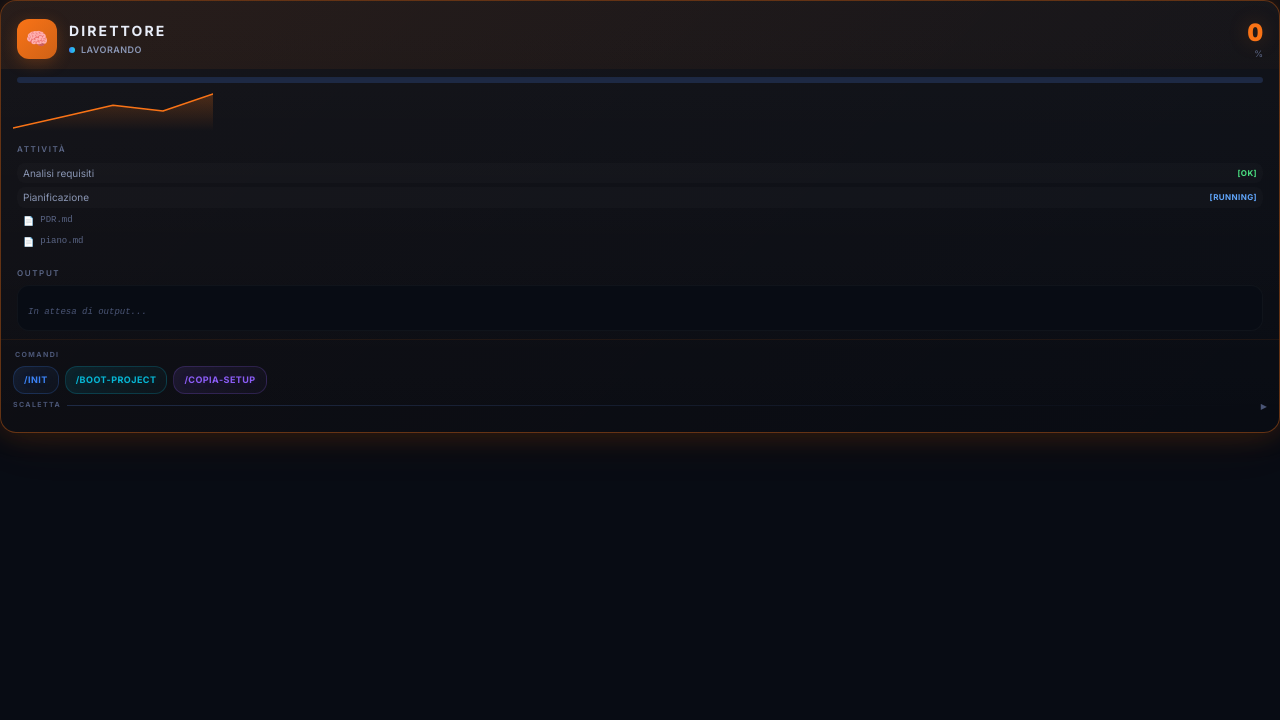
AgentCard › calcola phaseStatus con progress=0 per DirettoreFooter
This screenshot has width=1280, height=720.
Click the text "Scaletta". click: (37, 406)
box: [13,400,61,411]
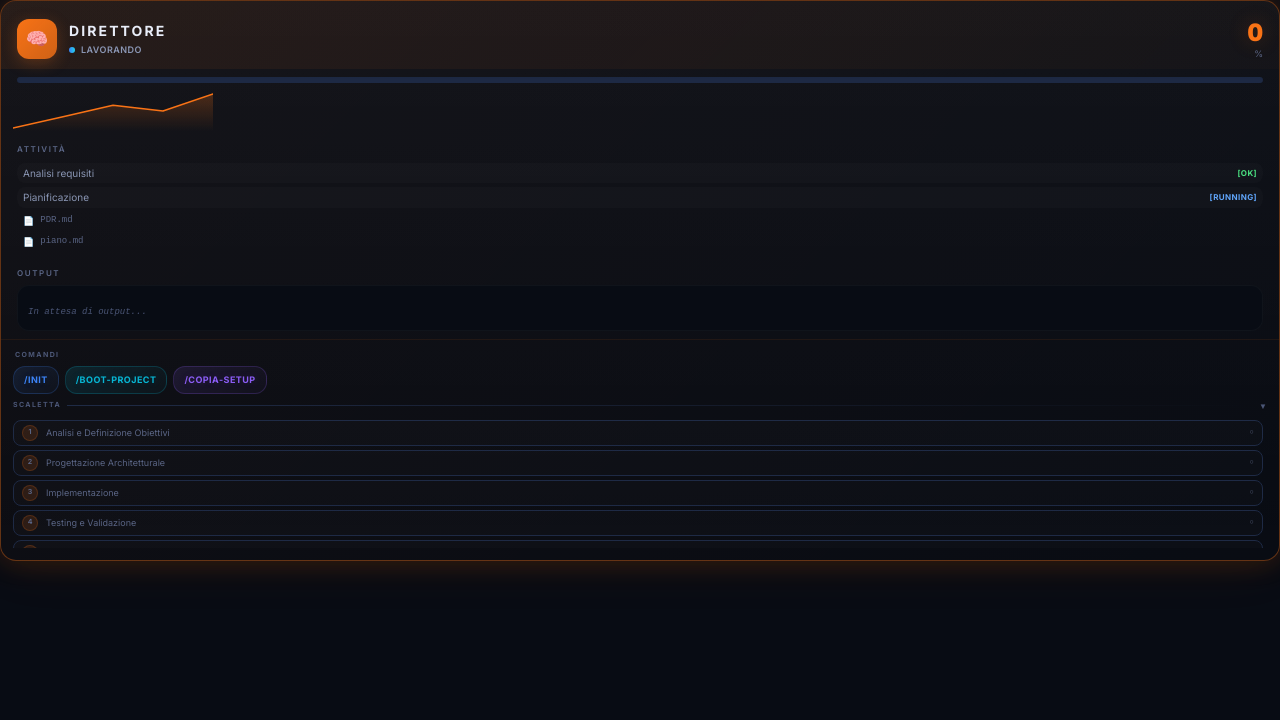
Expected: the text "Analisi e Definizione Obiettivi" is shown, [46,427,170,438]
